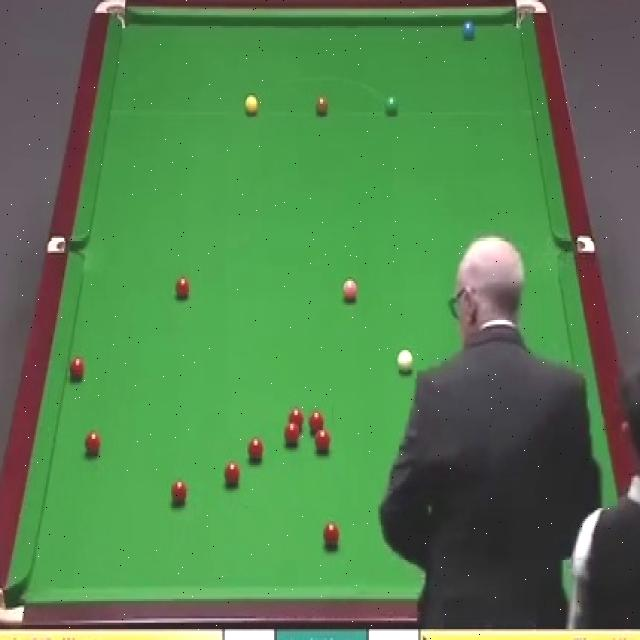blue-ball: (462, 20, 475, 43)
brown-ball: (316, 95, 330, 116)
green-ball: (384, 95, 399, 118)
pink-ball: (342, 276, 358, 307)
red-ball: (223, 460, 241, 488), (315, 427, 331, 457), (68, 356, 86, 382), (322, 522, 340, 547), (171, 477, 186, 507), (308, 408, 325, 434), (247, 435, 263, 462), (289, 406, 304, 434), (86, 430, 100, 456), (174, 275, 189, 298), (285, 422, 299, 444)
white-ball: (397, 347, 412, 379)
yellow-ball: (243, 95, 260, 116)
